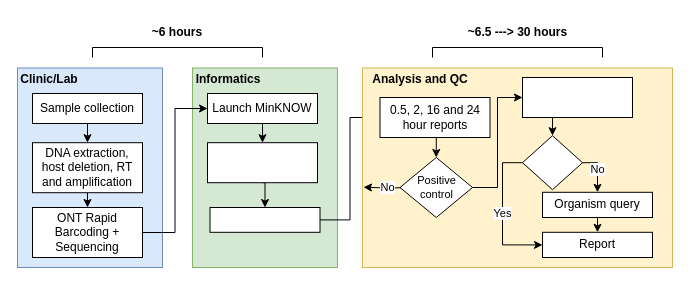
Some shapes in this 690 by 285 pixel diagram are drawn without their labels. Here are the shapes that lost their labels. From the top down, the box of each, then its label:
(522, 76, 632, 118): Identify pathogens
(206, 142, 318, 183): Launch CIDR Pipeline
(522, 135, 582, 190): Clinical context?
(209, 206, 320, 232): Report generation
